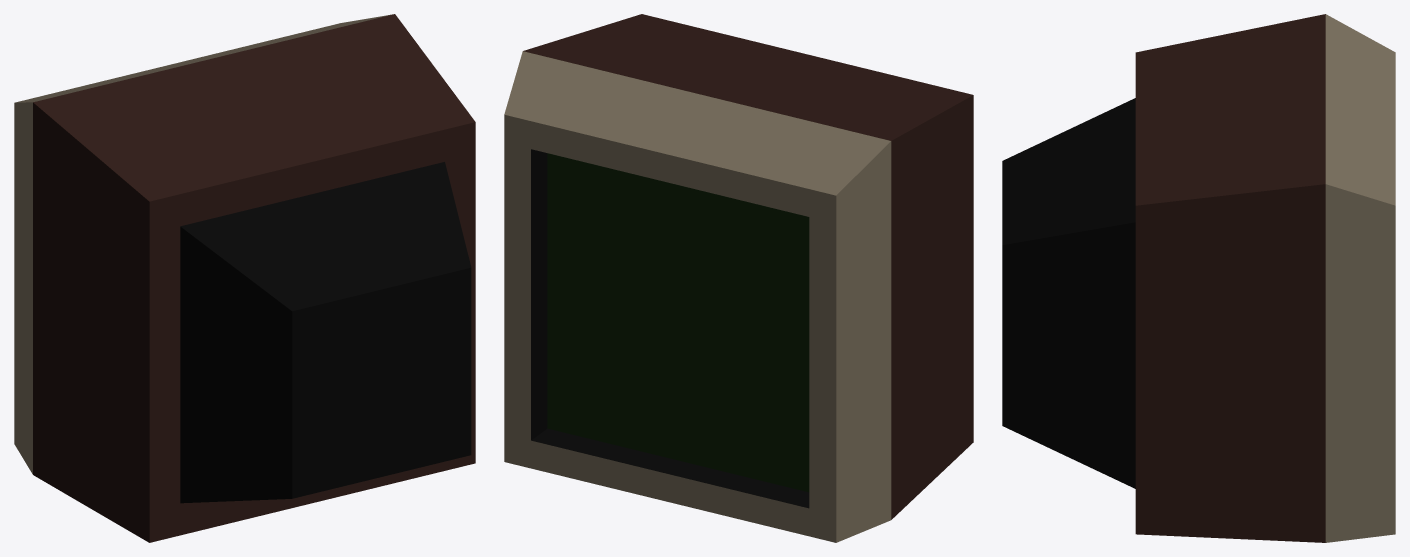
File: Monitor_Hangar.fbx
3 renders of one model, left to right at view 1: azimuth 30°, elevation 25°; view 2: azimuth 150°, elevation 25°; view 3: azimuth 270°, elevation 25°, orthographic. The views are drawn at different scales.
Parts seen in each view (by area): view 1: Monitor; view 2: Monitor; view 3: Monitor.
Part boxes in pixels (box(x1,y1,x2,y2)): Monitor: box(14, 14, 475, 542); Monitor: box(504, 14, 973, 542); Monitor: box(1002, 14, 1395, 542).
Bounding box in the file's own units: 157 × 154 × 153.
